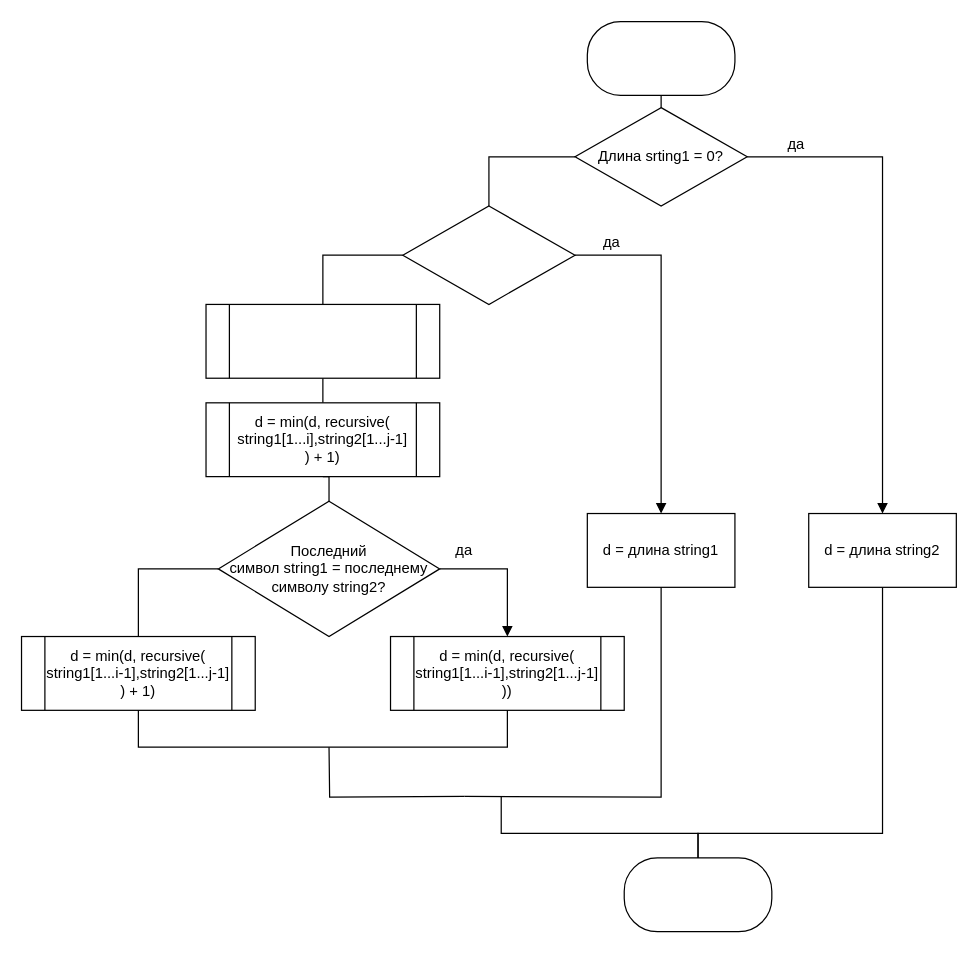
The diagram is 978 pixels wide and 953 high, and some of its shapes have lost their labels. The shapes that lost their labels are listed below. From the top down, each one's centre as x and y in pixels, then its label:
point 660,57: Начало
point 488,254: Длина srting2 = 0?
point 322,340: d = recursive( string1[1...i-1],string2[1...j] ) + 1
point 697,894: Конец
